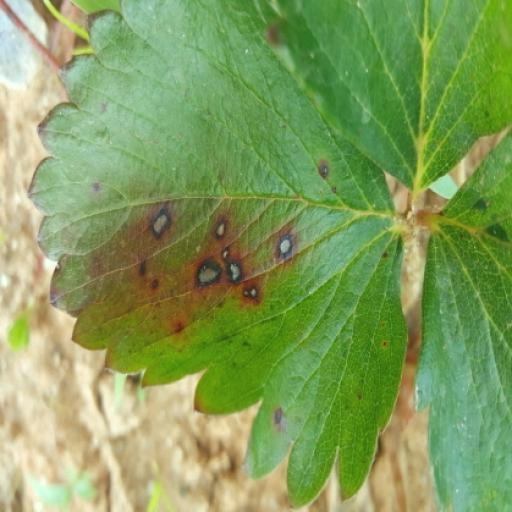Leaf Spot: (103, 0, 485, 511)
